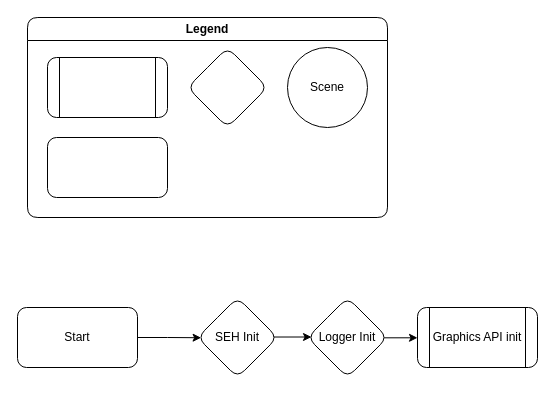
Image size: 555x395. Some labels were removed from this diagram. Here are the shapes that lost their labels. From the top down, the centre of each, then its label:
(x=107, y=87): Graphics
(x=227, y=87): Debugging
(x=107, y=167): Core Engine
